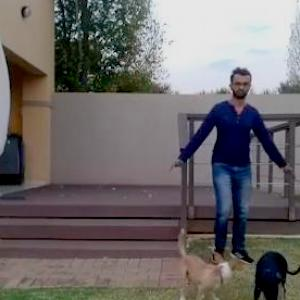land: (167, 66, 288, 275)
